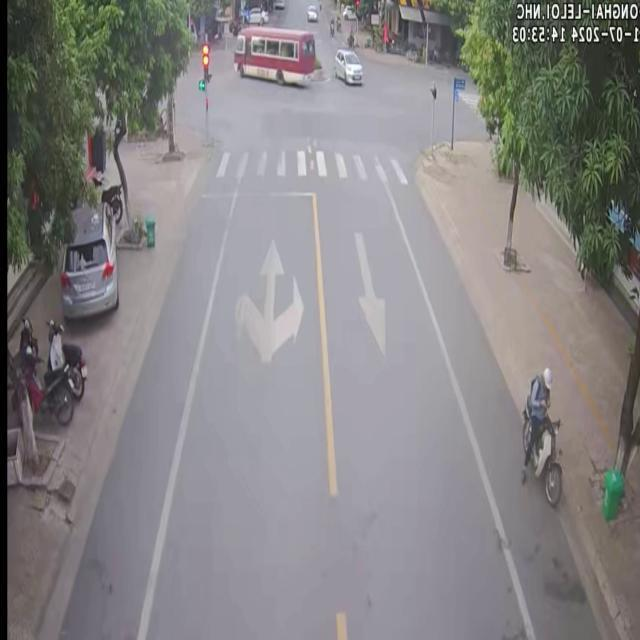car: (58, 200, 117, 316), (232, 25, 313, 82), (332, 47, 360, 82)
motobike: (519, 365, 560, 502), (17, 340, 72, 422), (46, 318, 86, 398)
red_light: (201, 46, 210, 79)
stop_line: (194, 190, 317, 196)
